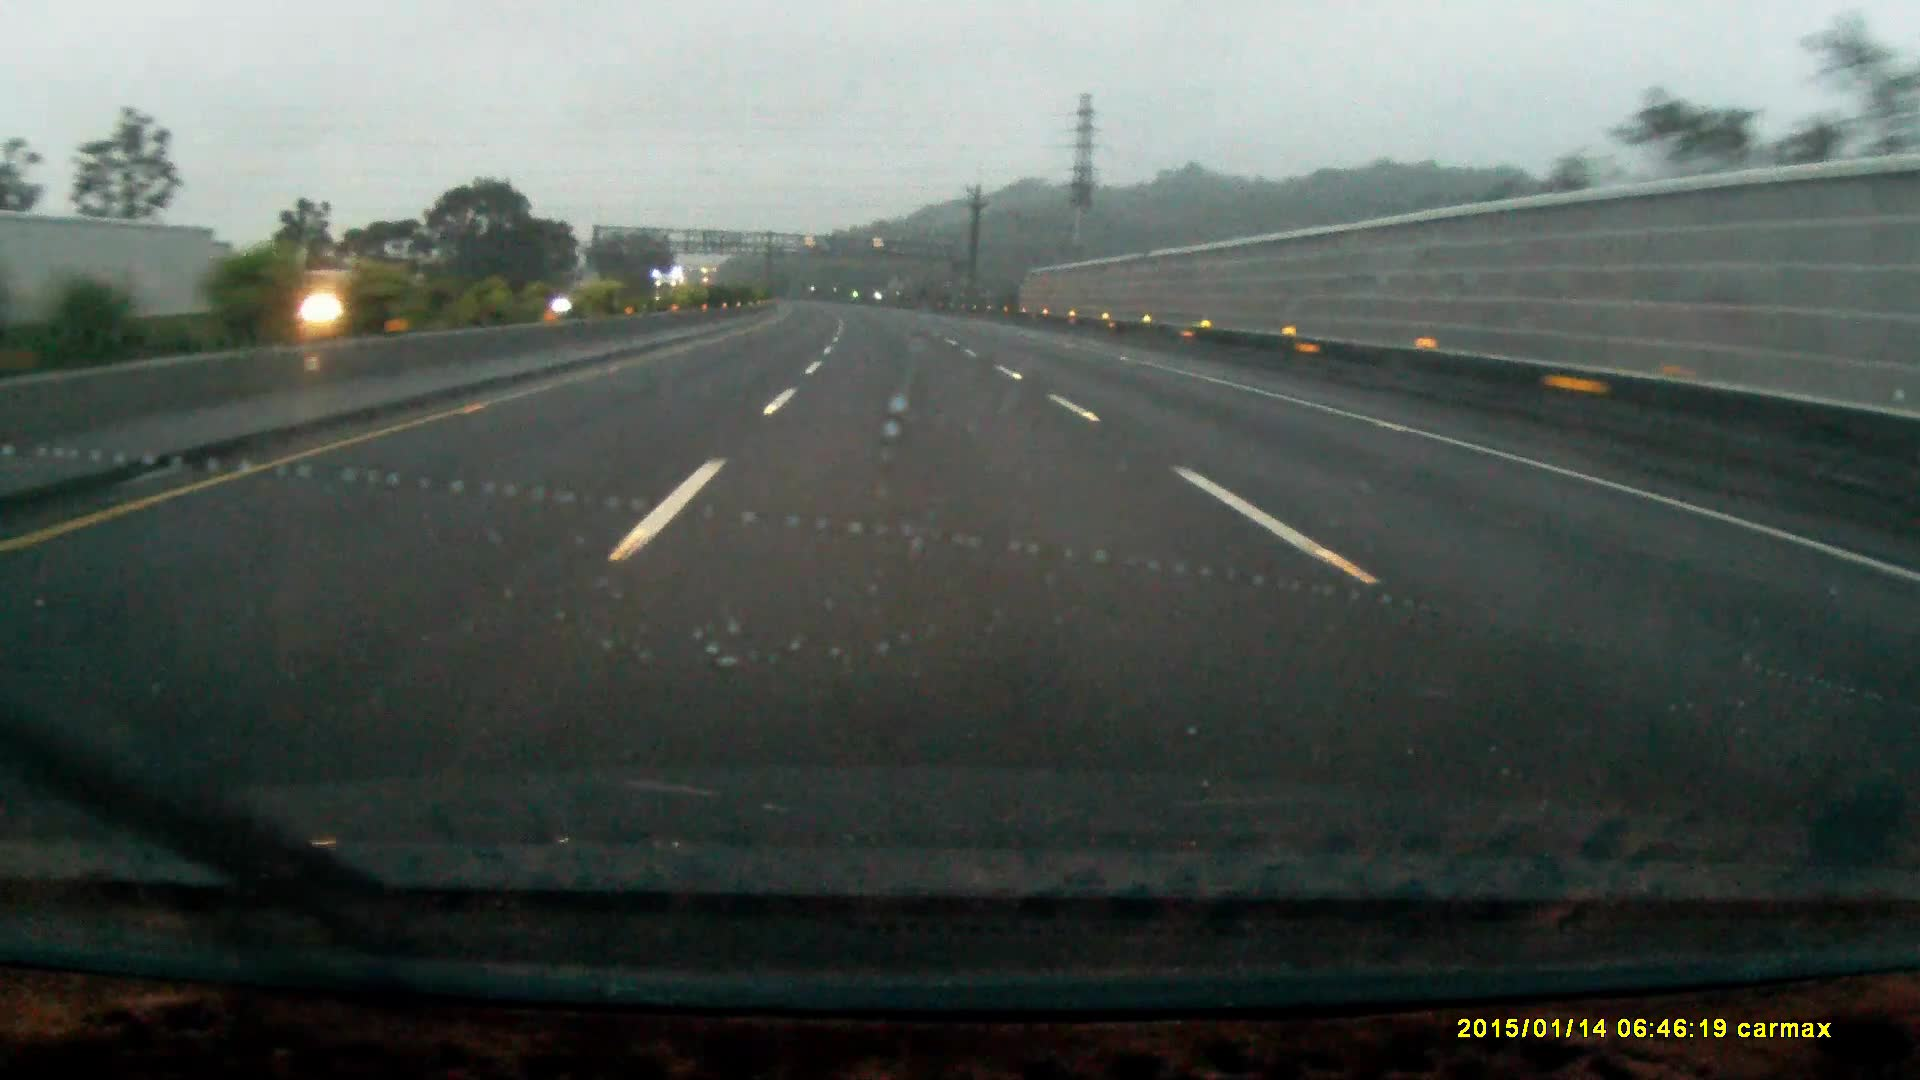vehicle: (653, 266, 692, 305)
